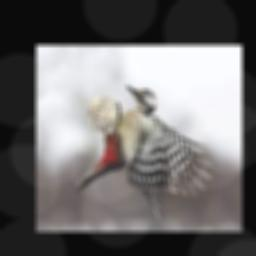Woodpecker: (76, 85, 213, 220)
